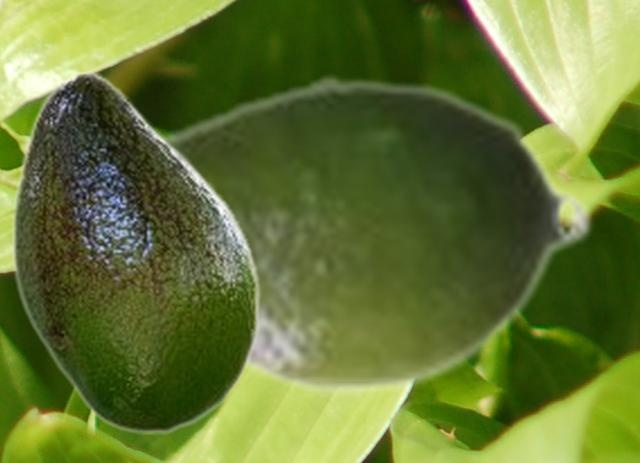avocado: (156, 71, 595, 399), (12, 70, 260, 433)
